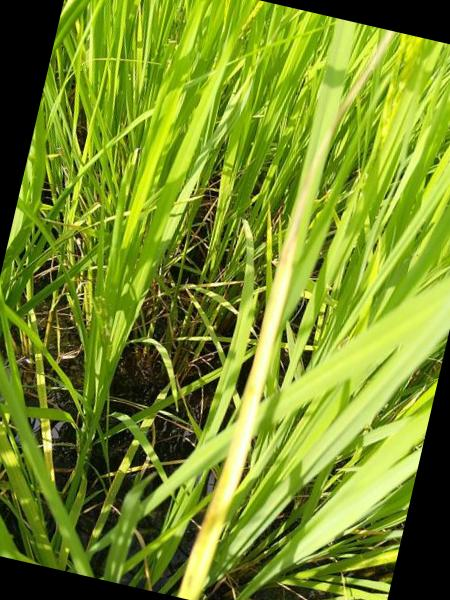Leaf Blight: (178, 30, 397, 600)
